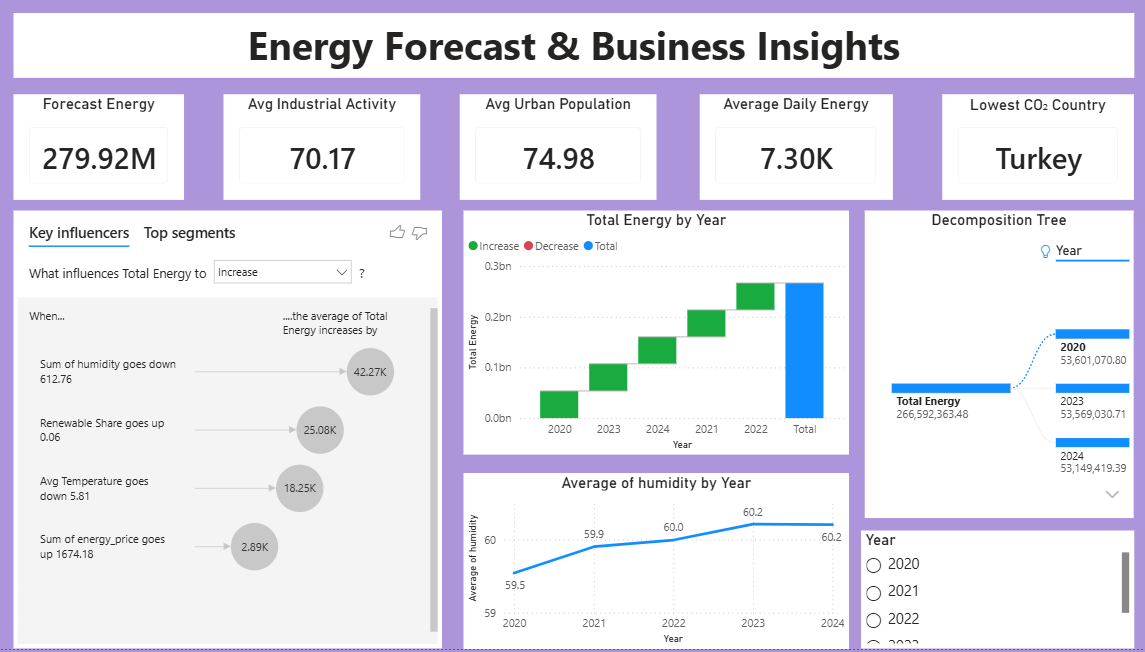

Layout of this report page (visuals, bound fields, positions):
{"tool":"powerbi","page":{"name":"Energy Forecast & Business Insights","canvas":[1280,720],"ordinal":3},"visuals":[{"type":"textbox","box":[24.4,21.3,1230.1,71.6],"z":0},{"type":"cardVisual","title":"Forecast Energy","fields":{"Data":["global_climate_energy_2020_2024.Forecast Energy"]},"box":[24.4,111.1,187.3,115.7],"z":1000},{"type":"cardVisual","title":"Average Daily Energy","fields":{"Data":["global_climate_energy_2020_2024.Average Daily Energy"]},"box":[777.9,111.1,211.6,115.7],"z":2000},{"type":"cardVisual","title":"Lowest CO₂ Country","fields":{"Data":["global_climate_energy_2020_2024.Lowest CO₂ Country"]},"box":[1044.3,111.1,210.1,115.7],"z":3000},{"type":"cardVisual","title":"Avg Industrial Activity","fields":{"Data":["global_climate_energy_2020_2024.Avg Industrial Activity"]},"box":[255.8,111.1,216.2,115.7],"z":4000},{"type":"cardVisual","title":"Avg Urban Population","fields":{"Data":["global_climate_energy_2020_2024.Avg Urban Population"]},"box":[514.6,111.1,216.2,115.7],"z":5000},{"type":"lineChart","fields":{"Category":["global_climate_energy_2020_2024.date.Variation.Date Hierarchy.Year","global_climate_energy_2020_2024.date.Variation.Date Hierarchy.Quarter","global_climate_energy_2020_2024.date.Variation.Date Hierarchy.Month","global_climate_energy_2020_2024.date.Variation.Date Hierarchy.Day"],"Y":["Avg(global_climate_energy_2020_2024.humidity)"]},"box":[519.1,526.7,423.2,193.3],"z":6000},{"type":"decompositionTreeVisual","title":"Decomposition Tree","fields":{"Analyze":["global_climate_energy_2020_2024.Total Energy"],"ExplainBy":["global_climate_energy_2020_2024.Year","global_climate_energy_2020_2024.country","global_climate_energy_2020_2024.renewable_share","global_climate_energy_2020_2024.energy_price","global_climate_energy_2020_2024.avg_temperature","global_climate_energy_2020_2024.industrial_activity_index"]},"box":[959.1,239,295.3,338],"z":7000},{"type":"keyDriversVisual","fields":{"Target":["global_climate_energy_2020_2024.Total Energy"],"ExplainBy":["Sum(global_climate_energy_2020_2024.energy_price)","global_climate_energy_2020_2024.Renewable Share","global_climate_energy_2020_2024.Avg Temperature","Sum(global_climate_energy_2020_2024.humidity)","Sum(global_climate_energy_2020_2024.industrial_activity_index)","Sum(global_climate_energy_2020_2024.urban_population)","global_climate_energy_2020_2024.country"]},"box":[24.4,239,470.4,481.1],"z":8000},{"type":"waterfallChart","fields":{"Category":["global_climate_energy_2020_2024.Year"],"Y":["global_climate_energy_2020_2024.Total Energy"]},"box":[519.1,239,423.2,267.9],"z":9000},{"type":"listSlicer","fields":{"Values":["global_climate_energy_2020_2024.Year"]},"box":[954.5,590.7,299.9,129.4],"z":10000}]}

Visuals, with their boxes in screenshot pixels (x1, y1, x2, y2), scaled from the page's 1280x720 canvas onto the 1145x652 screenshot:
textbox: x1=22 y1=19 x2=1122 y2=84
"Forecast Energy" cardVisual: x1=22 y1=101 x2=189 y2=205
"Average Daily Energy" cardVisual: x1=696 y1=101 x2=885 y2=205
"Lowest CO₂ Country" cardVisual: x1=934 y1=101 x2=1122 y2=205
"Avg Industrial Activity" cardVisual: x1=229 y1=101 x2=422 y2=205
"Avg Urban Population" cardVisual: x1=460 y1=101 x2=654 y2=205
lineChart - global_climate_energy_2020_2024.date.Variation.Date Hierarchy.Year x global_climate_energy_2020_2024.date.Variation.Date Hierarchy.Quarter: x1=464 y1=477 x2=843 y2=651
"Decomposition Tree" decompositionTreeVisual: x1=858 y1=216 x2=1122 y2=523
keyDriversVisual - global_climate_energy_2020_2024.Total Energy x Sum(global_climate_energy_2020_2024.energy_price): x1=22 y1=216 x2=443 y2=651
waterfallChart - global_climate_energy_2020_2024.Year x global_climate_energy_2020_2024.Total Energy: x1=464 y1=216 x2=843 y2=459
listSlicer - global_climate_energy_2020_2024.Year: x1=854 y1=535 x2=1122 y2=651
